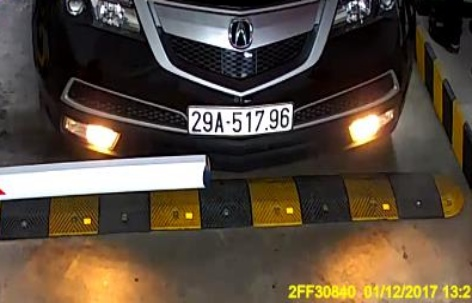plate: (187, 103, 293, 137)
